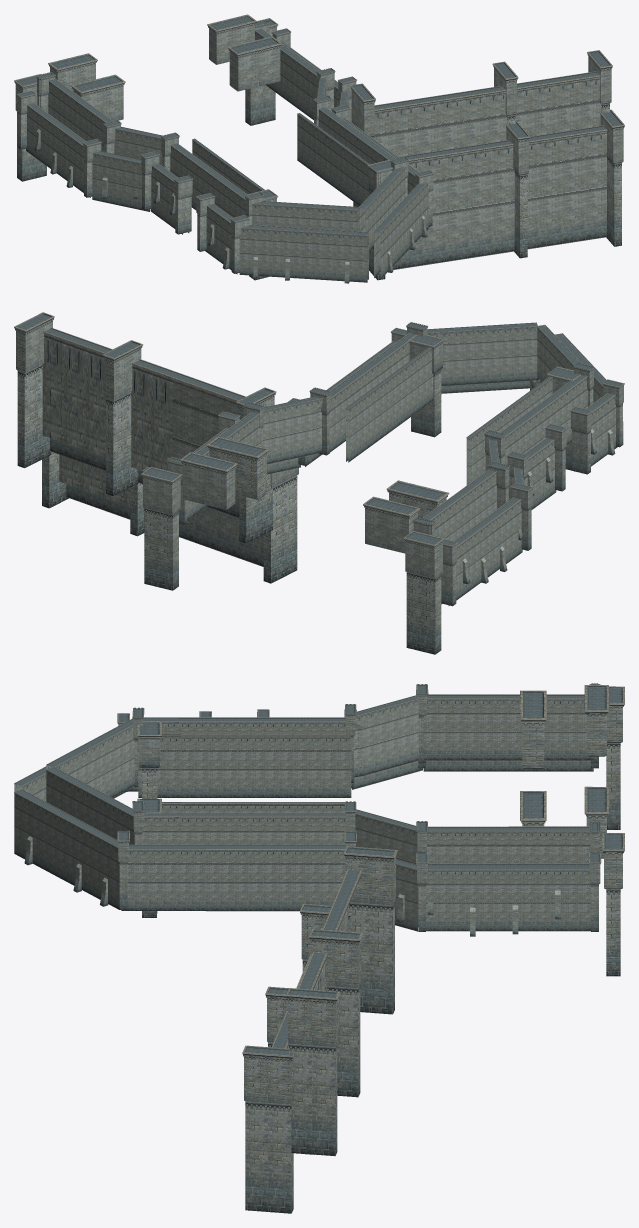
Rendered from Maincity_Wall.FBX.
The picture shows the model from 3 angles, top to bottom: view 1: azimuth 30°, elevation 25°; view 2: azimuth 150°, elevation 25°; view 3: azimuth 270°, elevation 25°; orthographic projection. The views are drawn at different scales.
Visible parts, largest first — view 1: Maincity_wall_014; view 2: Maincity_wall_014; view 3: Maincity_wall_014.
Boxes of the visible parts, x1=… form: Maincity_wall_014: x1=14, y1=14, x2=624, y2=283; Maincity_wall_014: x1=14, y1=312, x2=624, y2=654; Maincity_wall_014: x1=14, y1=683, x2=624, y2=1213.
Size of the model in its own units: 23062 by 8565 by 19259.
